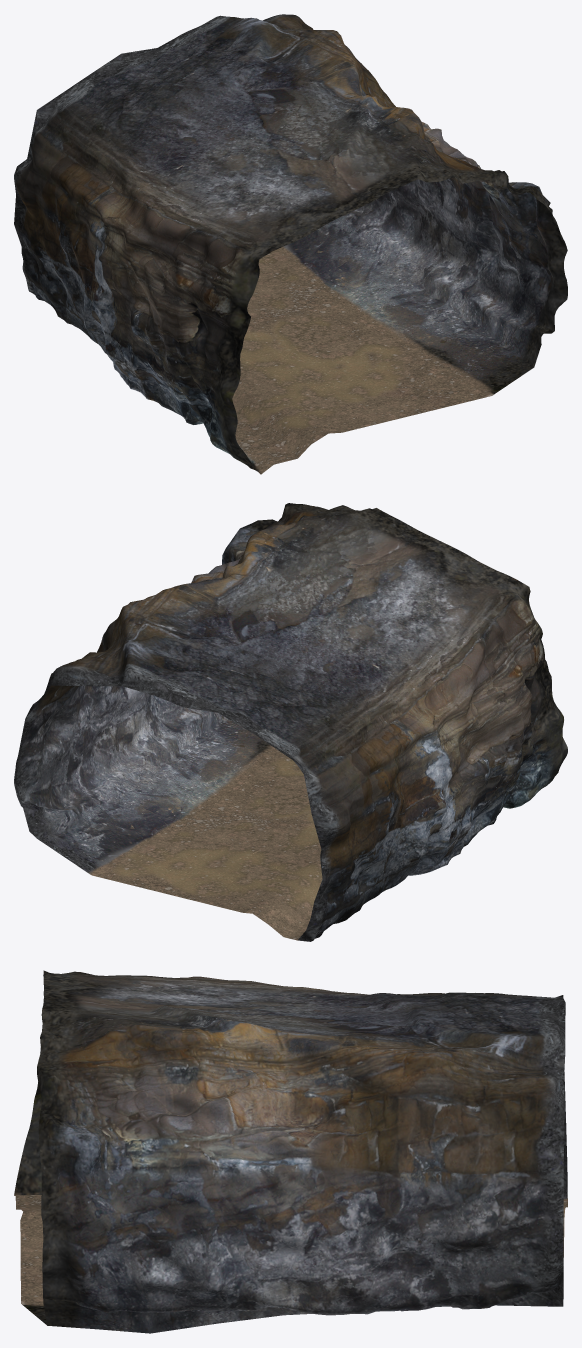
File: piece.obj
3 renders of one model, top to bottom at view 1: azimuth 30°, elevation 25°; view 2: azimuth 150°, elevation 25°; view 3: azimuth 270°, elevation 25°, orthographic. The views are drawn at different scales.
Visible parts, largest first — view 1: TunnelA7; view 2: TunnelA7; view 3: TunnelA7.
Part boxes in pixels (bbox=[...]): TunnelA7: bbox=[14, 14, 567, 474]; TunnelA7: bbox=[14, 503, 567, 941]; TunnelA7: bbox=[14, 970, 567, 1333].
Bounding box in the file's own units: 4.77 × 3.19 × 5.53.
1 material, 1 textured.
